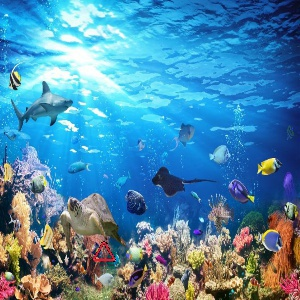triangle: (91, 238, 118, 264)
